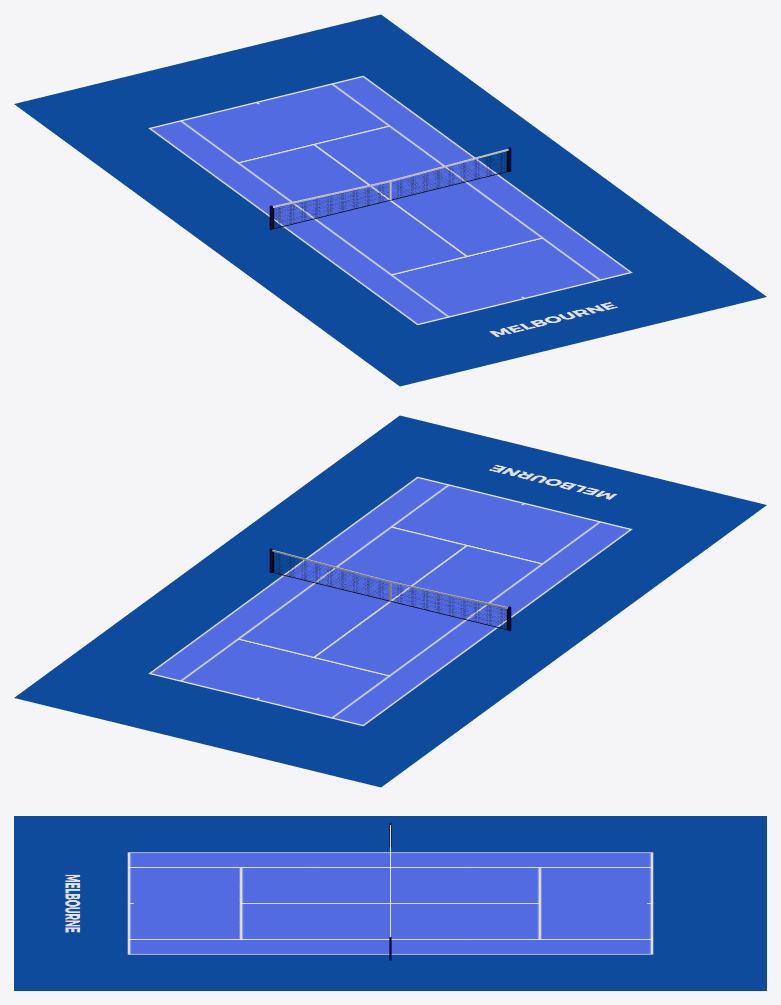
The model's file is tennis-court-cement.glb.
3 views of the same model, one above another, from view 1: azimuth 30°, elevation 25°; view 2: azimuth 150°, elevation 25°; view 3: azimuth 270°, elevation 25° (orthographic). The views are drawn at different scales.
Visible parts, largest first — view 1: external-court_5, court_4, net_2, white-part_3; view 2: external-court_5, court_4, net_2, white-part_3; view 3: external-court_5, court_4.
Part boxes in pixels (box(x1,y1,x2,y2)): external-court_5: box(14, 14, 766, 386); court_4: box(148, 75, 632, 325); net_2: box(274, 152, 505, 226); white-part_3: box(273, 148, 508, 207); external-court_5: box(14, 415, 766, 787); court_4: box(148, 476, 632, 726); net_2: box(275, 553, 506, 627); white-part_3: box(272, 549, 507, 608); external-court_5: box(14, 816, 766, 990); court_4: box(127, 852, 653, 954).
Bounding box in the file's own units: 37.4 × 2.28 × 68.09.
Materials: 5 (2 with a texture image).
